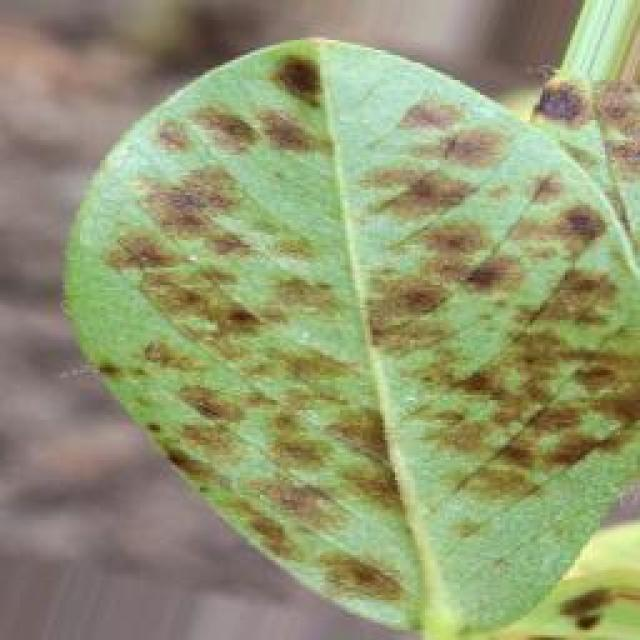Whitefly: (86, 0, 633, 637)
